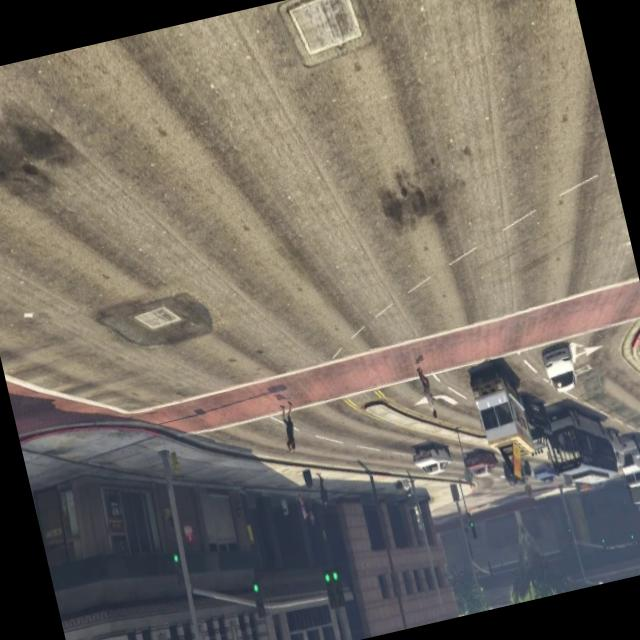Green-Signal: (312, 556, 353, 618), (163, 542, 190, 594), (245, 572, 270, 626)
